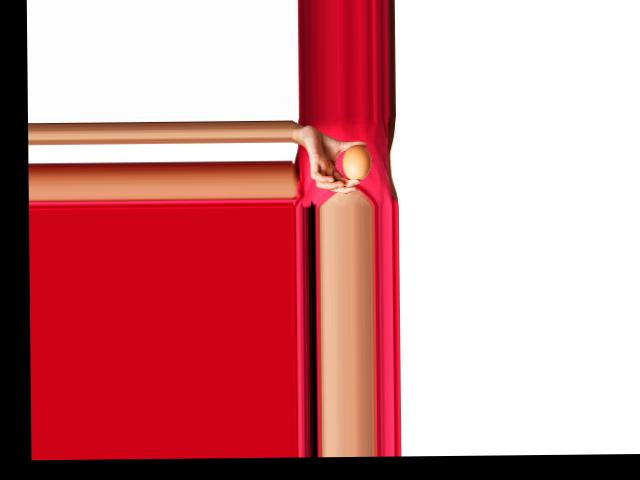egg: (341, 144, 370, 181)
